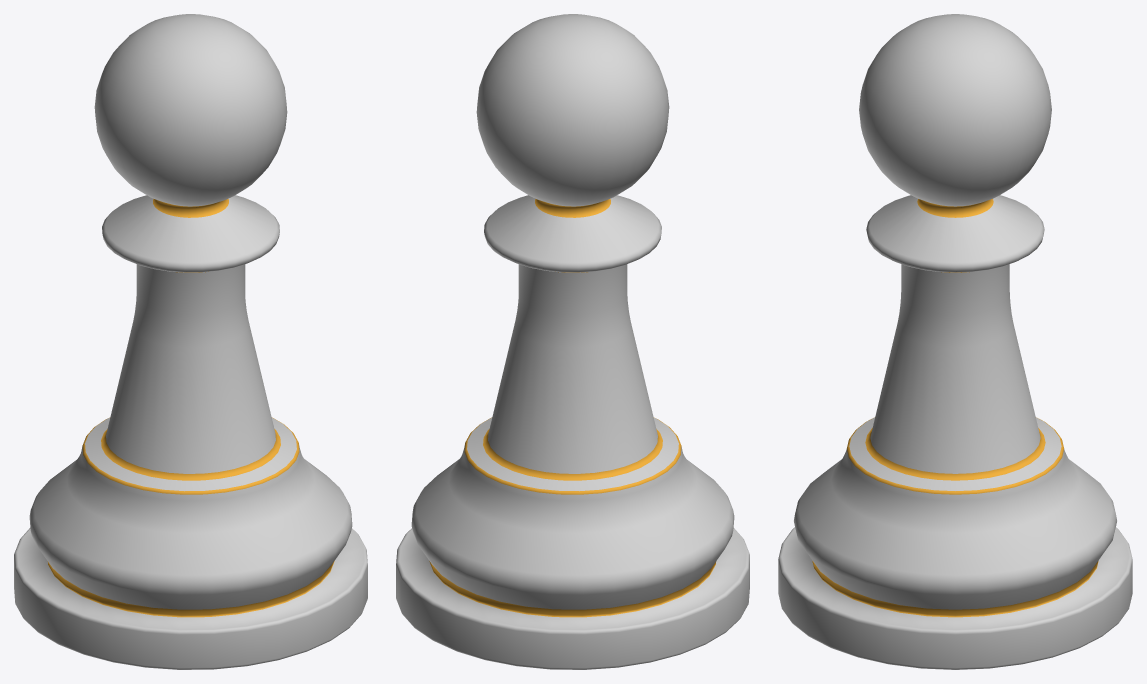
The model's file is pawn.glb.
3 renders of one model, left to right at view 1: azimuth 30°, elevation 25°; view 2: azimuth 150°, elevation 25°; view 3: azimuth 270°, elevation 25°, orthographic.
Visible parts, largest first — view 1: Circle.020; view 2: Circle.020; view 3: Circle.020.
Part boxes in pixels (x1,y1,x2,y2): Circle.020: (14, 14, 367, 669); Circle.020: (396, 14, 749, 669); Circle.020: (778, 14, 1132, 669).
Size of the model in its own units: 27.79 by 49.5 by 27.79.
